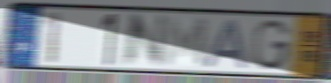1: (43, 10, 64, 65), (101, 12, 118, 68)
A: (202, 17, 251, 70)
G: (250, 18, 294, 72)
M: (162, 14, 210, 69)
N: (120, 12, 170, 68)
